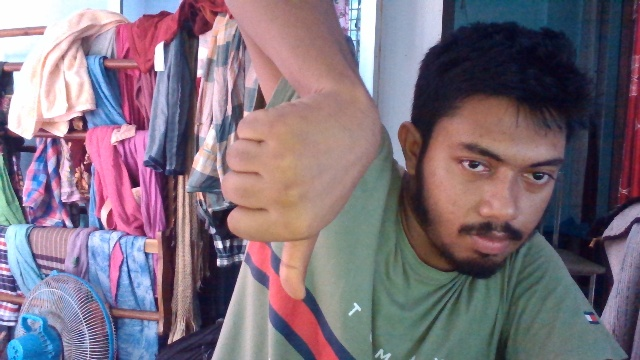no: (226, 80, 377, 303)
